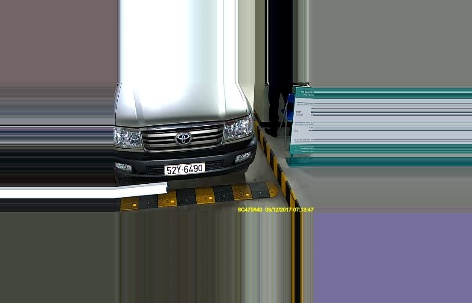plate: (165, 163, 204, 175)
